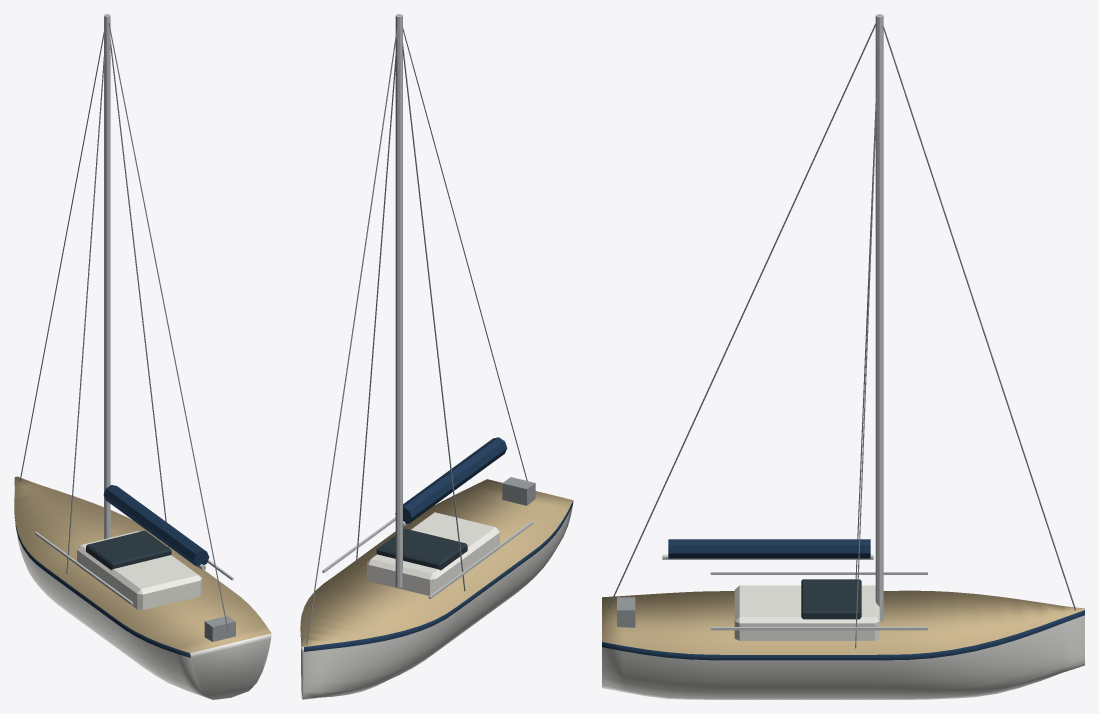
File: sail.glb
3 views of the same model, side by side, from view 1: azimuth 30°, elevation 25°; view 2: azimuth 150°, elevation 25°; view 3: azimuth 270°, elevation 25° (orthographic). The views are drawn at different scales.
Parts seen in each view (by area): view 1: hull, Cube, Cylinder, Cylinder.002, Cube.001, Cylinder.006, Cylinder.005, Cylinder.004, Cylinder.003, Cube.004, Cube.002; view 2: hull, Cylinder, Cube, Cylinder.002, Cube.001, Cylinder.003, Cylinder.005, Cylinder.004, Cylinder.006, Cube.004, Cube.002; view 3: hull, Cube, Cylinder, Cylinder.002, Cube.001, Cylinder.006, Cylinder.003, Cylinder.004, Cube.003.
Boxes of the visible parts, left/top/right/bottom form: hull: left=14, top=476, right=271, bottom=699; Cube: left=77, top=531, right=202, bottom=609; Cylinder: left=104, top=14, right=110, bottom=539; Cylinder.002: left=103, top=485, right=209, bottom=566; Cube.001: left=86, top=530, right=171, bottom=570; Cylinder.006: left=107, top=15, right=228, bottom=632; Cylinder.005: left=66, top=39, right=105, bottom=573; Cylinder.004: left=110, top=39, right=169, bottom=548; Cylinder.003: left=19, top=15, right=107, bottom=480; Cube.004: left=204, top=615, right=235, bottom=641; Cube.002: left=34, top=532, right=133, bottom=604; hull: left=300, top=479, right=573, bottom=699; Cylinder: left=395, top=14, right=402, bottom=587; Cube: left=367, top=512, right=499, bottom=595; Cylinder.002: left=395, top=437, right=507, bottom=524; Cube.001: left=376, top=528, right=467, bottom=570; Cylinder.003: left=306, top=26, right=397, bottom=644; Cylinder.005: left=402, top=41, right=465, bottom=591; Cylinder.004: left=355, top=56, right=395, bottom=564; Cylinder.006: left=399, top=15, right=527, bottom=480; Cube.004: left=502, top=477, right=535, bottom=505; Cube.002: left=428, top=521, right=533, bottom=598; hull: left=602, top=590, right=1084, bottom=699; Cube: left=734, top=585, right=879, bottom=640; Cylinder: left=875, top=14, right=883, bottom=621; Cylinder.002: left=668, top=539, right=870, bottom=558; Cube.001: left=801, top=579, right=861, bottom=619; Cylinder.006: left=607, top=15, right=879, bottom=609; Cylinder.003: left=883, top=26, right=1075, bottom=610; Cylinder.004: left=855, top=15, right=879, bottom=648; Cube.003: left=710, top=627, right=927, bottom=630.
Bounding box in the file's own units: 2.5 × 12.3 × 8.
